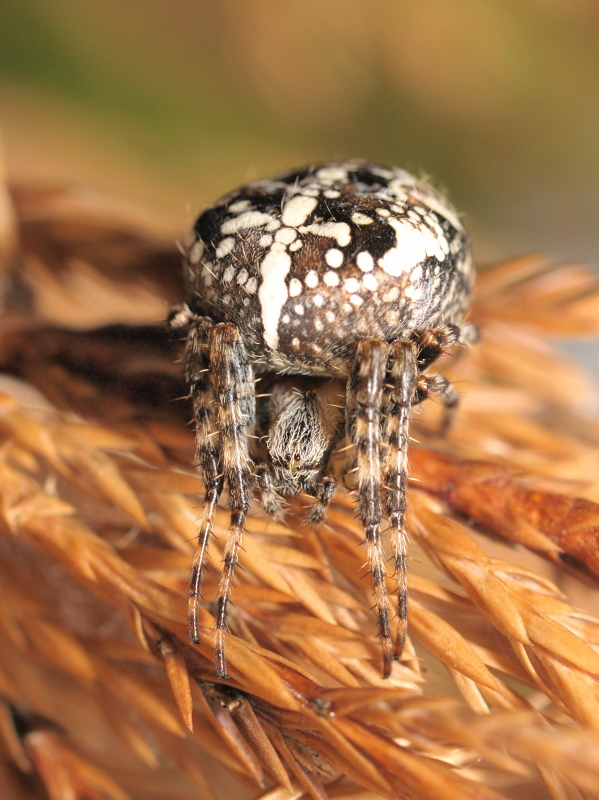spider: (92, 121, 499, 706)
